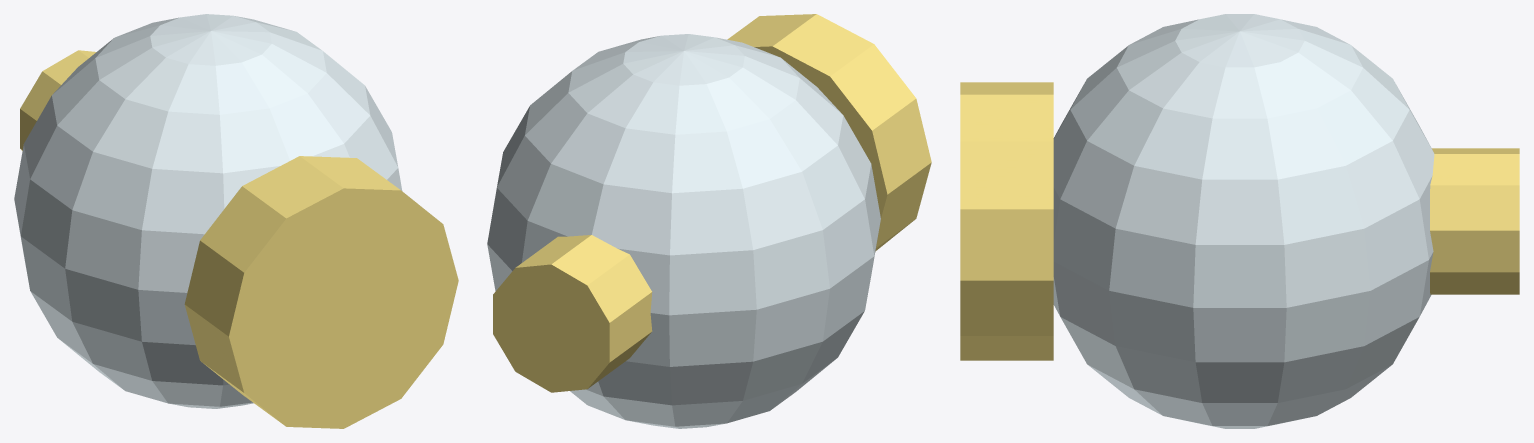
The model's file is infuser_held.gltf.
The picture shows the model from 3 angles, left to right: view 1: azimuth 30°, elevation 25°; view 2: azimuth 150°, elevation 25°; view 3: azimuth 270°, elevation 25°; orthographic projection. The views are drawn at different scales.
Visible parts, largest first — view 1: bees_infuser_held; view 2: bees_infuser_held; view 3: bees_infuser_held.
Part boxes in pixels (bbox=[...]): bees_infuser_held: bbox=[14, 14, 458, 428]; bees_infuser_held: bbox=[487, 14, 931, 428]; bees_infuser_held: bbox=[960, 14, 1519, 428].
Bounding box in the file's own units: 0.0877 × 0.09 × 0.12.
